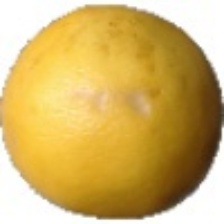grapes: (9, 27, 202, 195)
